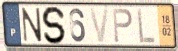6: (69, 8, 87, 44)
L: (136, 7, 156, 45)
N: (21, 7, 43, 43)
P: (111, 7, 134, 44)
S: (41, 6, 68, 45)
V: (88, 7, 111, 45)
